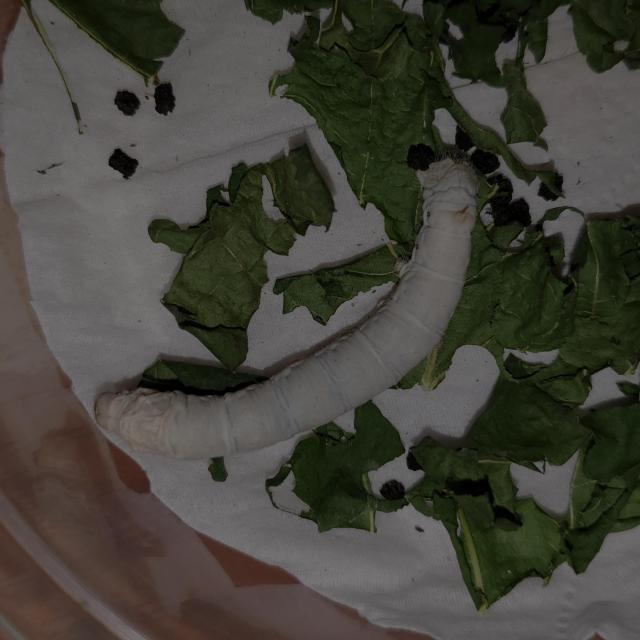Healthy: (81, 125, 507, 478)
